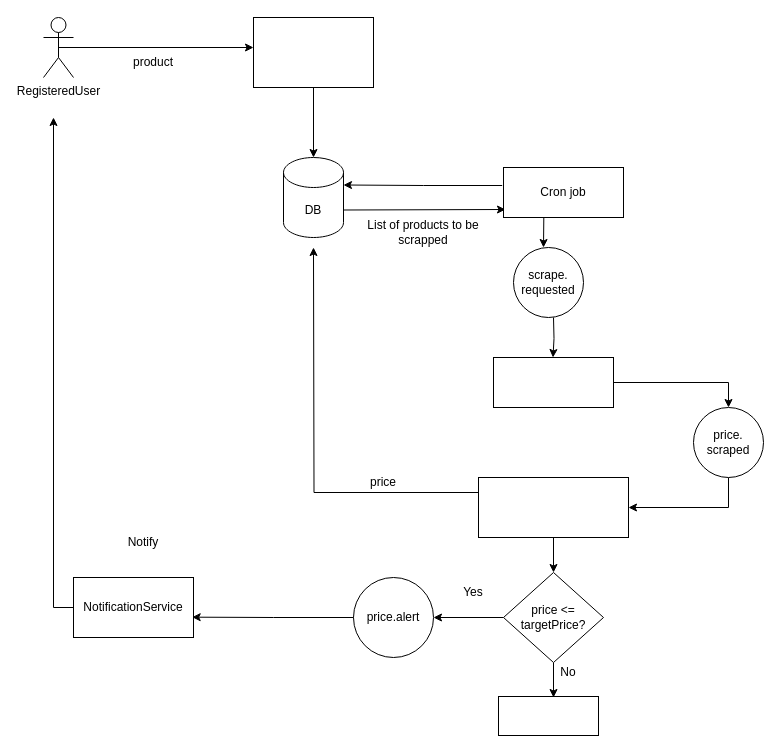
The diagram is 781 pixels wide and 753 high, and some of its shapes have lost their labels. The box of each missing label's shape, as (x1, y1, x2, y2) in pixels:
CheapSheep: (252, 16, 374, 88)
do nothing: (498, 696, 598, 736)
PriceObservationHandler: (478, 476, 628, 538)
Scrape Workers: (492, 356, 614, 408)
